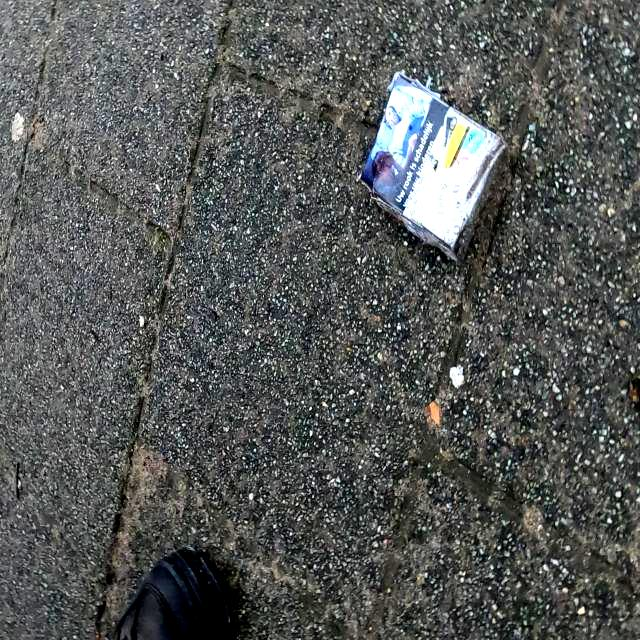Paper: (352, 64, 514, 272)
